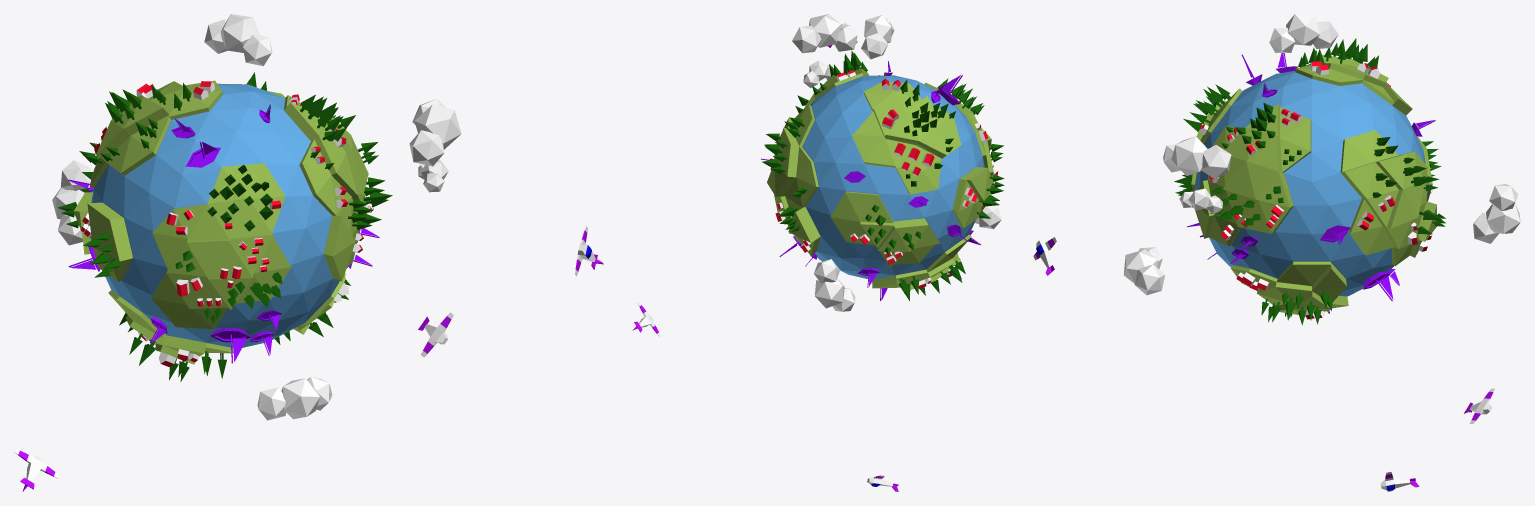
Rendered from new-world-optimized-BvbXTjUO.glb.
3 views of the same model, side by side, from view 1: azimuth 30°, elevation 25°; view 2: azimuth 150°, elevation 25°; view 3: azimuth 270°, elevation 25° (orthographic). The views are drawn at different scales.
Parts seen in each view (by area): view 1: Planet, Cloud.002, Cloud, Cloud.001, Cloud.003, Cloud.004, Plane.001, Plane.002, Boat.004; view 2: Planet, Cloud.002, Cloud.003, Cloud.001, Cloud.004, Cloud; view 3: Planet, Cloud.002, Cloud.001, Cloud.003, Cloud, Cloud.004.
Part boxes in pixels (left/top/right/bottom): Planet: left=73, top=80, right=368, bottom=364; Cloud.002: left=409, top=98, right=461, bottom=166; Cloud: left=257, top=376, right=332, bottom=420; Cloud.001: left=204, top=14, right=272, bottom=65; Cloud.003: left=52, top=160, right=90, bottom=245; Cloud.004: left=418, top=160, right=448, bottom=192; Plane.001: left=418, top=312, right=453, bottom=357; Plane.002: left=14, top=448, right=59, bottom=491; Boat.004: left=210, top=328, right=250, bottom=363; Planet: left=767, top=68, right=994, bottom=289; Cloud.002: left=792, top=14, right=857, bottom=53; Cloud.003: left=814, top=259, right=855, bottom=311; Cloud.001: left=861, top=15, right=894, bottom=59; Cloud.004: left=803, top=60, right=833, bottom=87; Cloud: left=975, top=205, right=1001, bottom=229; Planet: left=1191, top=53, right=1436, bottom=314; Cloud.002: left=1163, top=136, right=1231, bottom=178; Cloud.001: left=1269, top=14, right=1338, bottom=52; Cloud.003: left=1473, top=184, right=1520, bottom=243; Cloud: left=1124, top=247, right=1164, bottom=295; Cloud.004: left=1179, top=188, right=1222, bottom=213.
Bounding box in the file's own units: 3.8 × 4.43 × 4.35.
